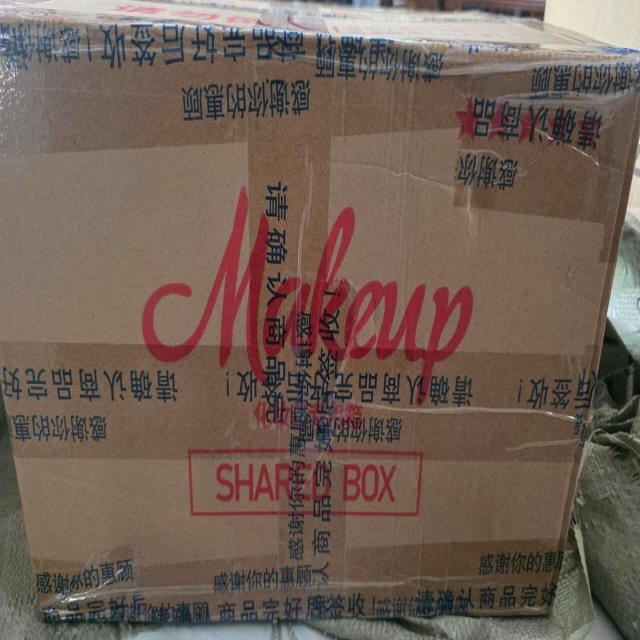carton_box: (0, 0, 640, 640), (1, 1, 640, 640)
